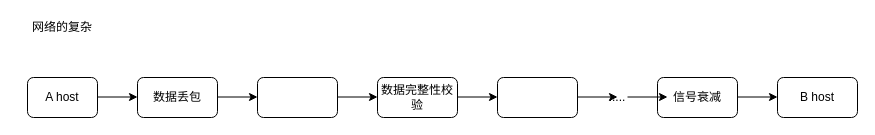
This 875x135 diagram has some shape labels left out. Each missing label, with the box of its shape:
数据转换虚信号: (496, 76, 578, 118)
数据重复: (256, 76, 338, 118)
